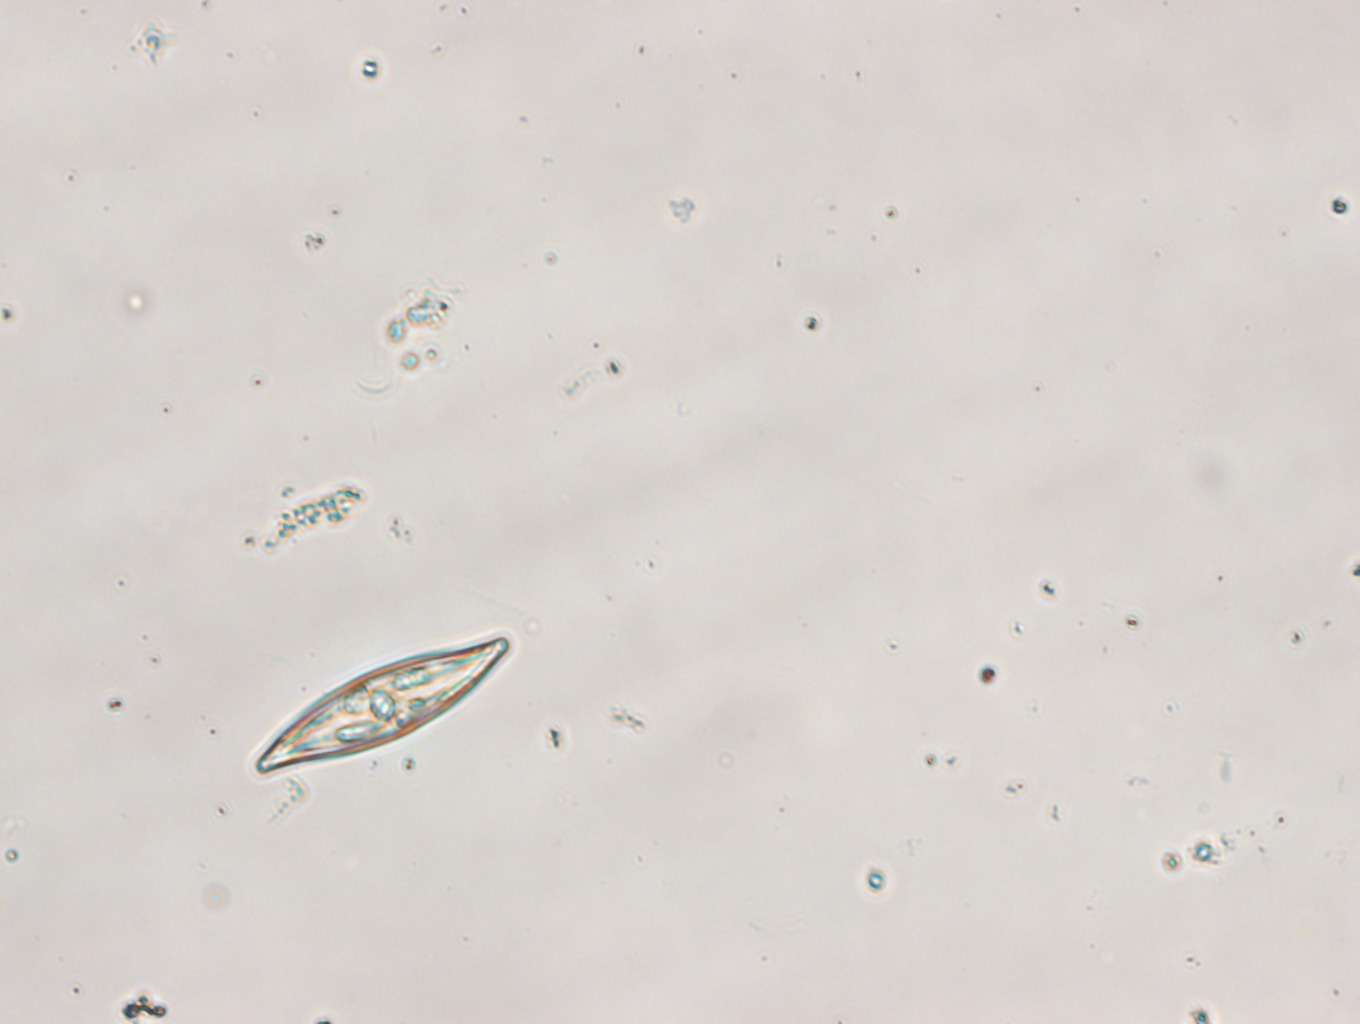pleurosigma pelagicum: (255, 629, 511, 776)
